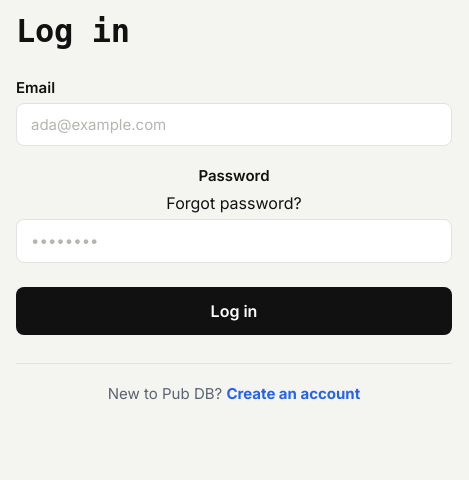
Test: AuthGate › shows an error alert when login returns a non-ok response
Type "test@example.com" into the field labelled "Email".
click(234, 124); type("test@example.com")  # box [16,103,452,146]
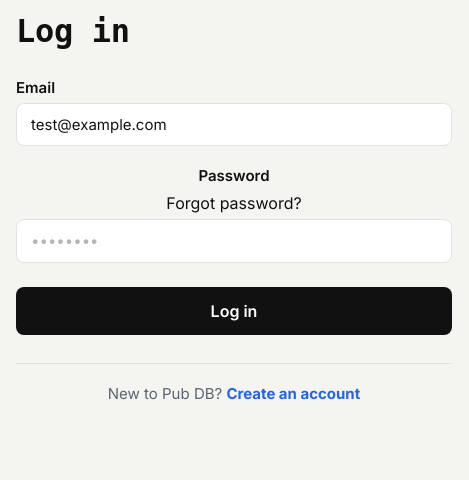
Type "wrong-password" into the password field labelled "Password".
click(234, 241); type("wrong-password")  # box [16,219,452,263]
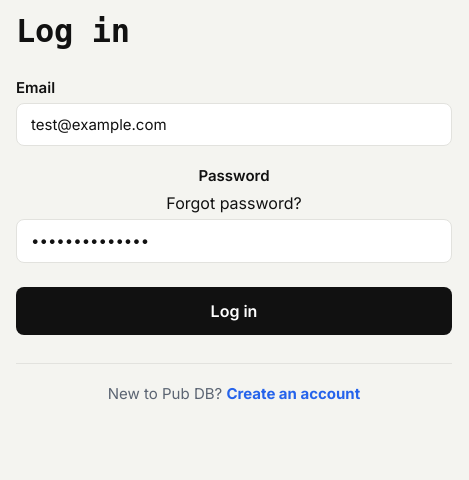
Click the button "Log in".
click(234, 310)  # box [16,286,452,334]
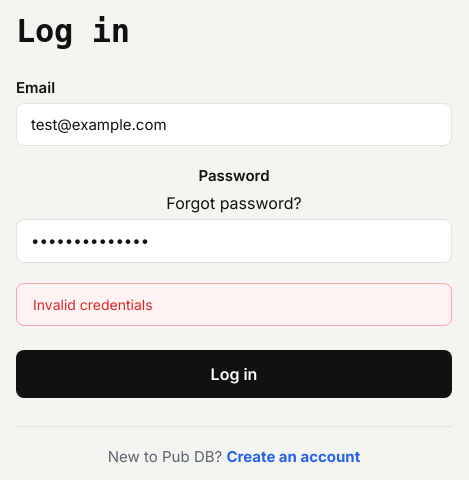
Expected: the message reads "Invalid credentials", [33,296,153,312]
